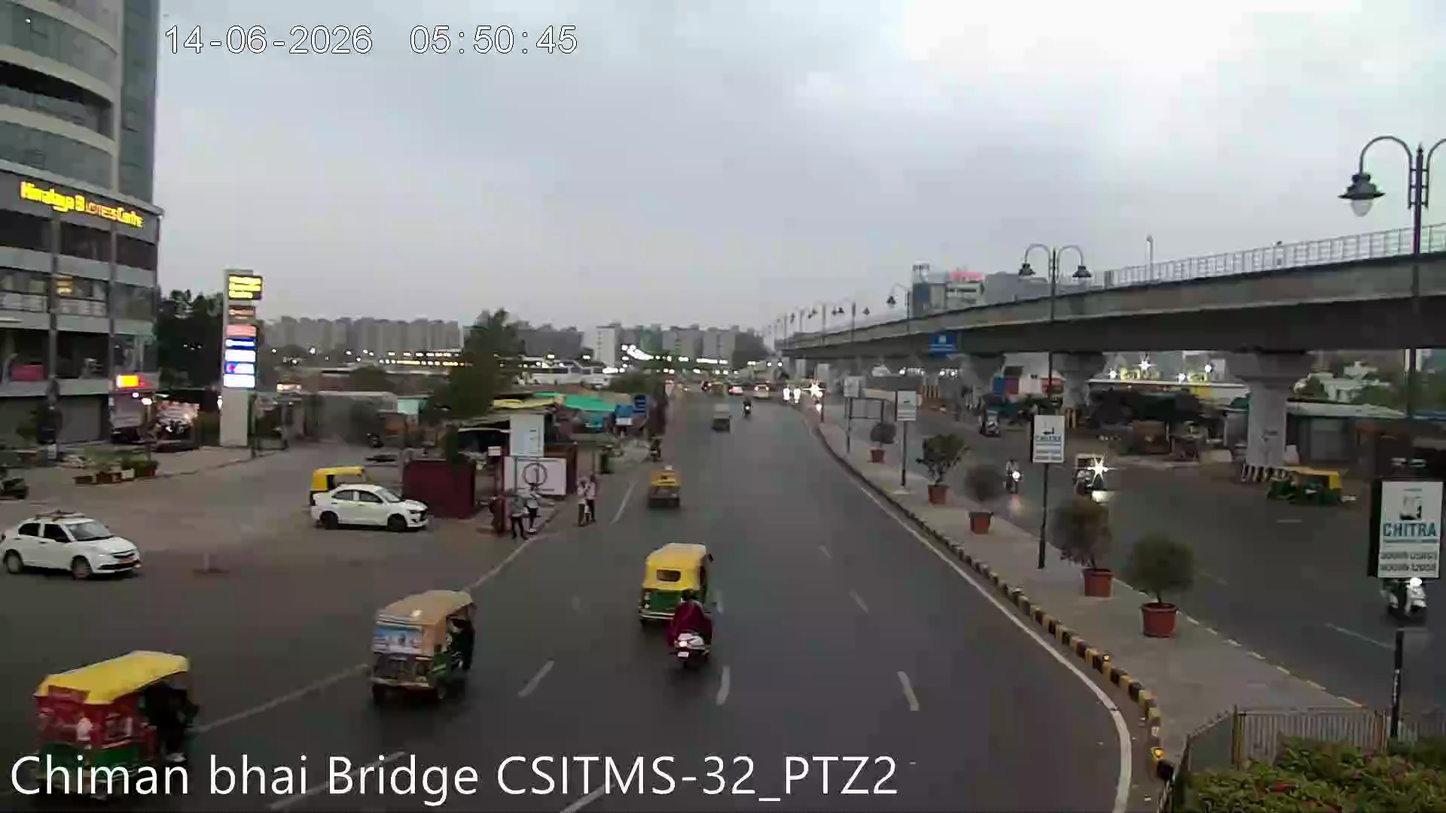auto_rickshaw: (26, 647, 208, 758), (364, 583, 481, 703), (639, 538, 714, 613), (1265, 461, 1347, 508), (1068, 449, 1113, 499), (644, 464, 684, 511), (709, 406, 733, 434)
car: (0, 505, 146, 582), (307, 476, 431, 535)
pedestrian: (508, 488, 537, 541), (514, 489, 542, 541), (575, 477, 598, 530)
two_wheeler: (665, 596, 716, 669), (1001, 453, 1023, 496), (740, 394, 755, 423)
